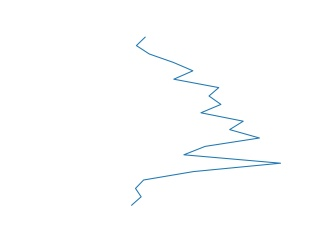floodSwamp: (123, 39, 282, 207)
